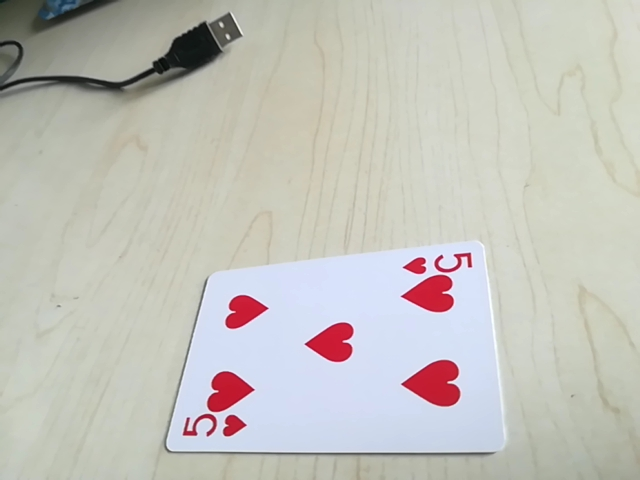hx 5: (399, 244, 480, 278), (180, 410, 248, 446)
